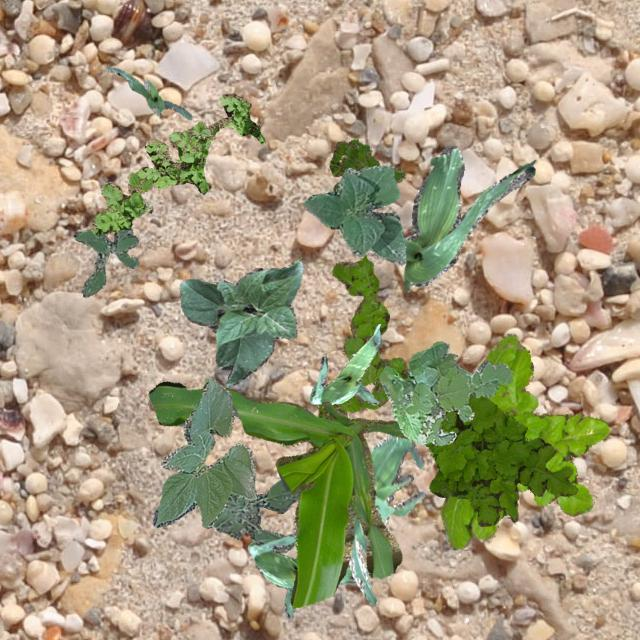crop: (147, 382, 406, 606), (402, 144, 534, 290), (178, 258, 302, 386), (152, 376, 256, 526), (348, 432, 424, 604), (302, 165, 406, 264), (246, 532, 354, 618), (308, 322, 379, 403), (106, 65, 190, 118)
weed: (440, 332, 608, 548), (90, 93, 264, 235), (424, 394, 576, 526), (316, 254, 408, 422), (378, 340, 512, 444), (211, 480, 299, 552), (72, 227, 138, 296), (328, 138, 404, 190)
